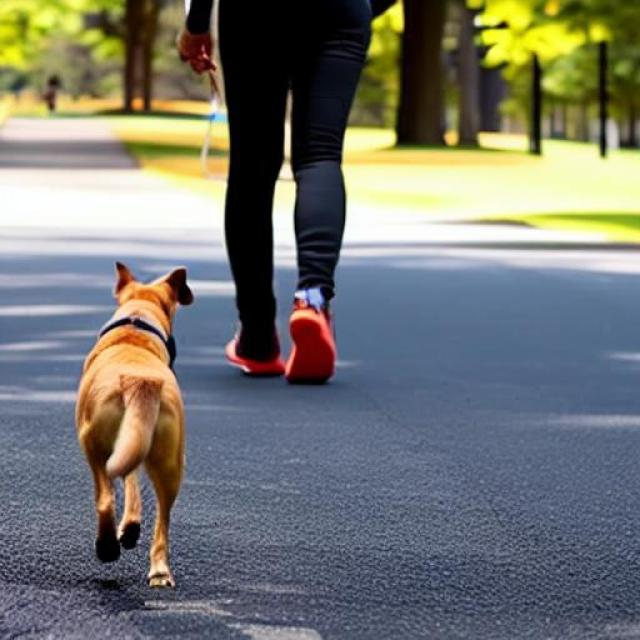Unleashed_Dog: (74, 11, 358, 589)
